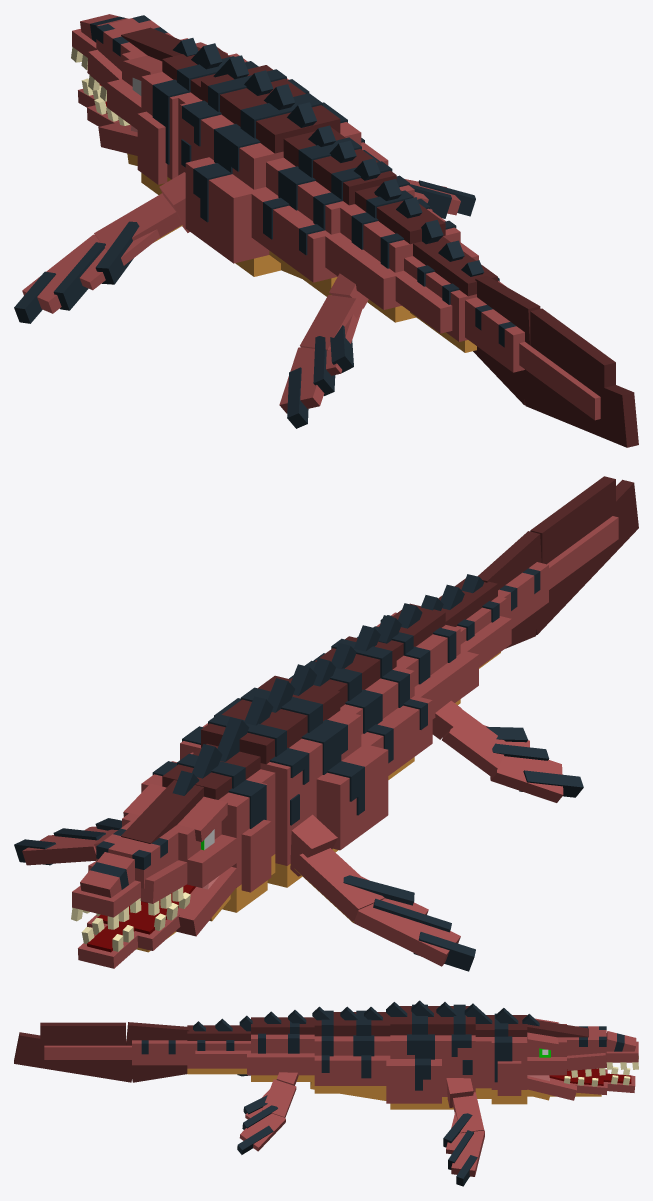
The model's file is mosasaurus.obj.
The picture shows the model from 3 angles, top to bottom: view 1: azimuth 30°, elevation 25°; view 2: azimuth 150°, elevation 25°; view 3: azimuth 270°, elevation 25°; orthographic projection. The views are drawn at different scales.
Visible parts, largest first — view 1: LowerTorso, Tail, UpperTorso, Head, LeftUpperArm, LeftUpperLeg, RightUpperArm; view 2: Head, UpperTorso, Tail, LowerTorso, LeftUpperArm, LeftUpperLeg, RightUpperArm; view 3: Head, Tail, LowerTorso, UpperTorso, RightUpperArm, RightUpperLeg.
Boxes of the visible parts, box(x1,y1,x2,y2) form: LowerTorso: box(251, 125, 478, 322); Tail: box(395, 219, 638, 447); UpperTorso: box(180, 65, 388, 276); Head: box(71, 14, 258, 194); LeftUpperArm: box(14, 172, 189, 323); LeftUpperLeg: box(279, 273, 368, 428); RightUpperArm: box(405, 179, 475, 218); Head: box(71, 717, 275, 968); UpperTorso: box(180, 664, 388, 887); Tail: box(421, 476, 638, 668); LowerTorso: box(289, 603, 478, 779); LeftUpperArm: box(290, 814, 475, 971); LeftUpperLeg: box(432, 700, 583, 802); RightUpperArm: box(14, 818, 121, 865); Head: box(464, 1003, 638, 1104); Tail: box(14, 1015, 252, 1082); LowerTorso: box(247, 1006, 390, 1100); UpperTorso: box(386, 1000, 475, 1109); RightUpperArm: box(443, 1078, 484, 1186); RightUpperLeg: box(237, 1072, 298, 1154).
Size of the model in its own units: 30.94 by 13.46 by 62.9.
